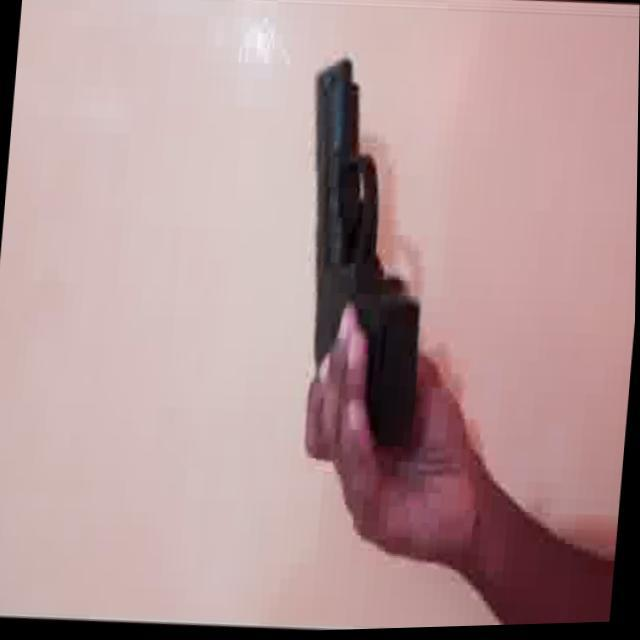weapon: (284, 51, 451, 466)
